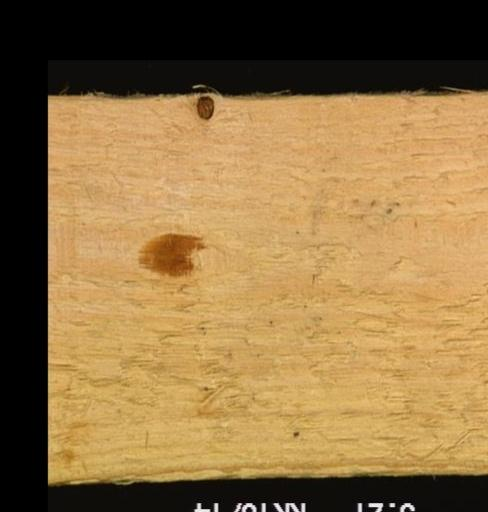dry_knot: (192, 93, 217, 120)
wave: (90, 82, 290, 106)
